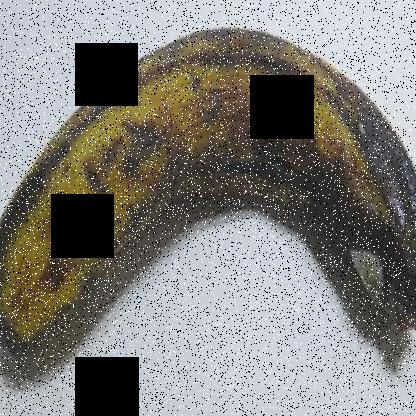overripe: (1, 10, 415, 391)
rotten: (292, 97, 415, 326)
